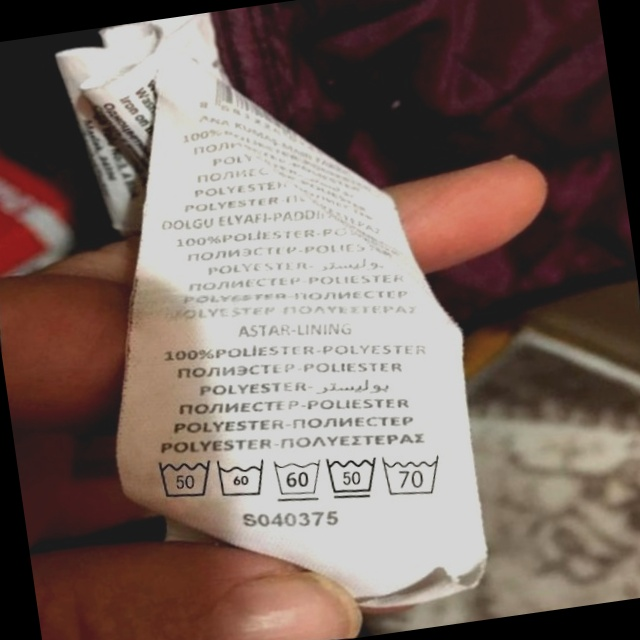50C: (148, 446, 220, 508), (320, 447, 385, 507)
60C: (268, 449, 330, 507), (211, 450, 274, 506)
70C: (379, 446, 451, 503)
